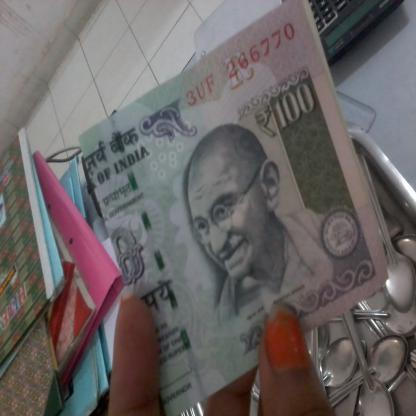Old100Front: (78, 0, 391, 416)
